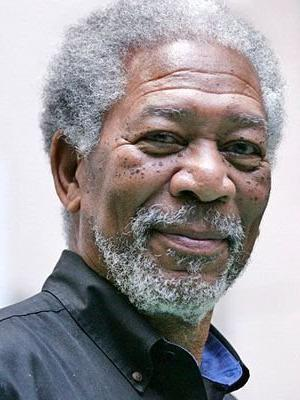Sober: (99, 61, 258, 278)
